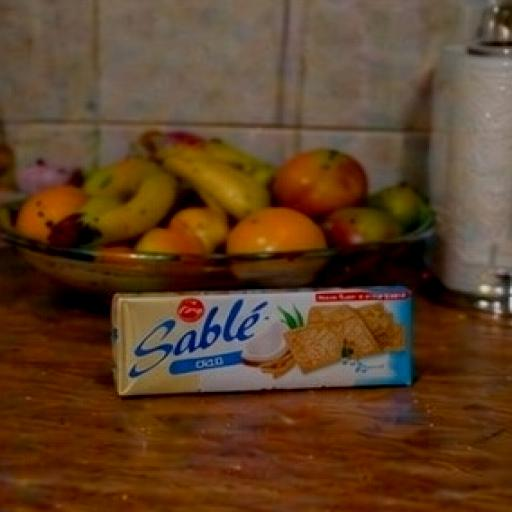sable: (58, 234, 472, 468)
